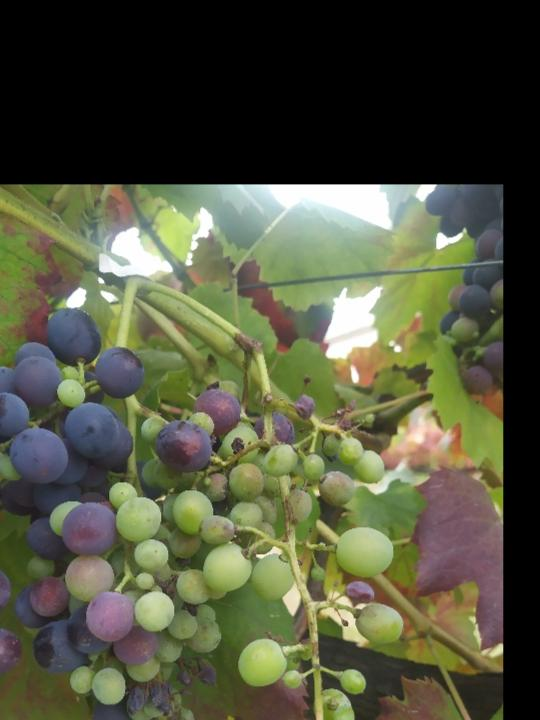grape: (0, 304, 220, 720), (152, 372, 405, 720)
